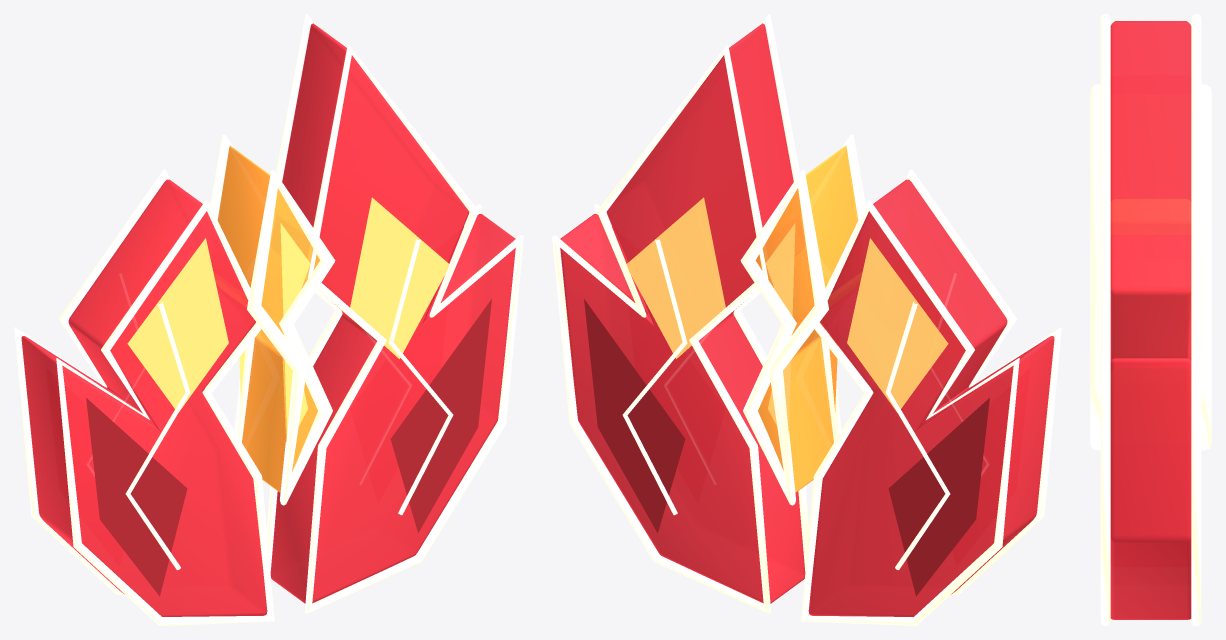
Rendered from damage-pickup-crystal-runes-lod0.glb.
3 views of the same model, side by side, from view 1: azimuth 30°, elevation 25°; view 2: azimuth 150°, elevation 25°; view 3: azimuth 270°, elevation 25° (orthographic). The views are drawn at different scales.
Visible parts, largest first — view 1: damage-flame-right, damage-flame-left, damage-split-core, damage-flame-edge-right-front, damage-lower-facet--1-front, damage-lower-facet-1-front, damage-flame-edge-left-front, damage-upper-facet--1-front, damage-split-light-front, damage-upper-facet-1-front, damage-flame-edge-left-rear, damage-flame-edge-right-rear (+4 smaller); view 2: damage-flame-right, damage-flame-left, damage-split-core, damage-flame-edge-right-rear, damage-lower-facet--1-rear, damage-lower-facet-1-rear, damage-flame-edge-left-rear, damage-upper-facet--1-rear, damage-split-light-rear, damage-upper-facet-1-rear, damage-flame-edge-left-front, damage-flame-edge-right-front (+4 smaller); view 3: damage-flame-right, damage-flame-edge-right-front, damage-flame-edge-right-rear, damage-split-light-front, damage-split-light-rear, damage-split-core.
Boxes of the visible parts, x1,y1,x2,y2 form: damage-flame-right: [270, 23, 515, 603]; damage-flame-left: [21, 179, 267, 616]; damage-split-core: [217, 145, 320, 492]; damage-flame-edge-right-front: [305, 45, 523, 613]; damage-lower-facet--1-front: [86, 398, 187, 596]; damage-lower-facet-1-front: [390, 299, 491, 533]; damage-flame-edge-left-front: [56, 200, 274, 625]; damage-upper-facet--1-front: [127, 238, 228, 412]; damage-split-light-front: [247, 170, 335, 505]; damage-upper-facet-1-front: [350, 197, 449, 358]; damage-flame-edge-left-rear: [14, 169, 170, 595]; damage-flame-edge-right-rear: [264, 14, 481, 582]; damage-flame-right: [560, 23, 805, 603]; damage-flame-left: [808, 179, 1054, 616]; damage-split-core: [755, 145, 858, 492]; damage-flame-edge-right-rear: [552, 45, 770, 613]; damage-lower-facet--1-rear: [888, 398, 989, 596]; damage-lower-facet-1-rear: [584, 299, 685, 533]; damage-flame-edge-left-rear: [801, 200, 1019, 625]; damage-upper-facet--1-rear: [847, 238, 948, 412]; damage-split-light-rear: [740, 170, 828, 505]; damage-upper-facet-1-rear: [626, 197, 725, 358]; damage-flame-edge-left-front: [905, 169, 1061, 595]; damage-flame-edge-right-front: [594, 14, 808, 579]; damage-flame-right: [1110, 21, 1191, 619]; damage-flame-edge-right-front: [1100, 14, 1110, 625]; damage-flame-edge-right-rear: [1191, 14, 1201, 625]; damage-split-light-front: [1090, 84, 1100, 450]; damage-split-light-rear: [1201, 84, 1211, 450]; damage-split-core: [1111, 199, 1190, 233].
Bounding box in the file's own units: 0.8269 × 0.9465 × 0.1738.
